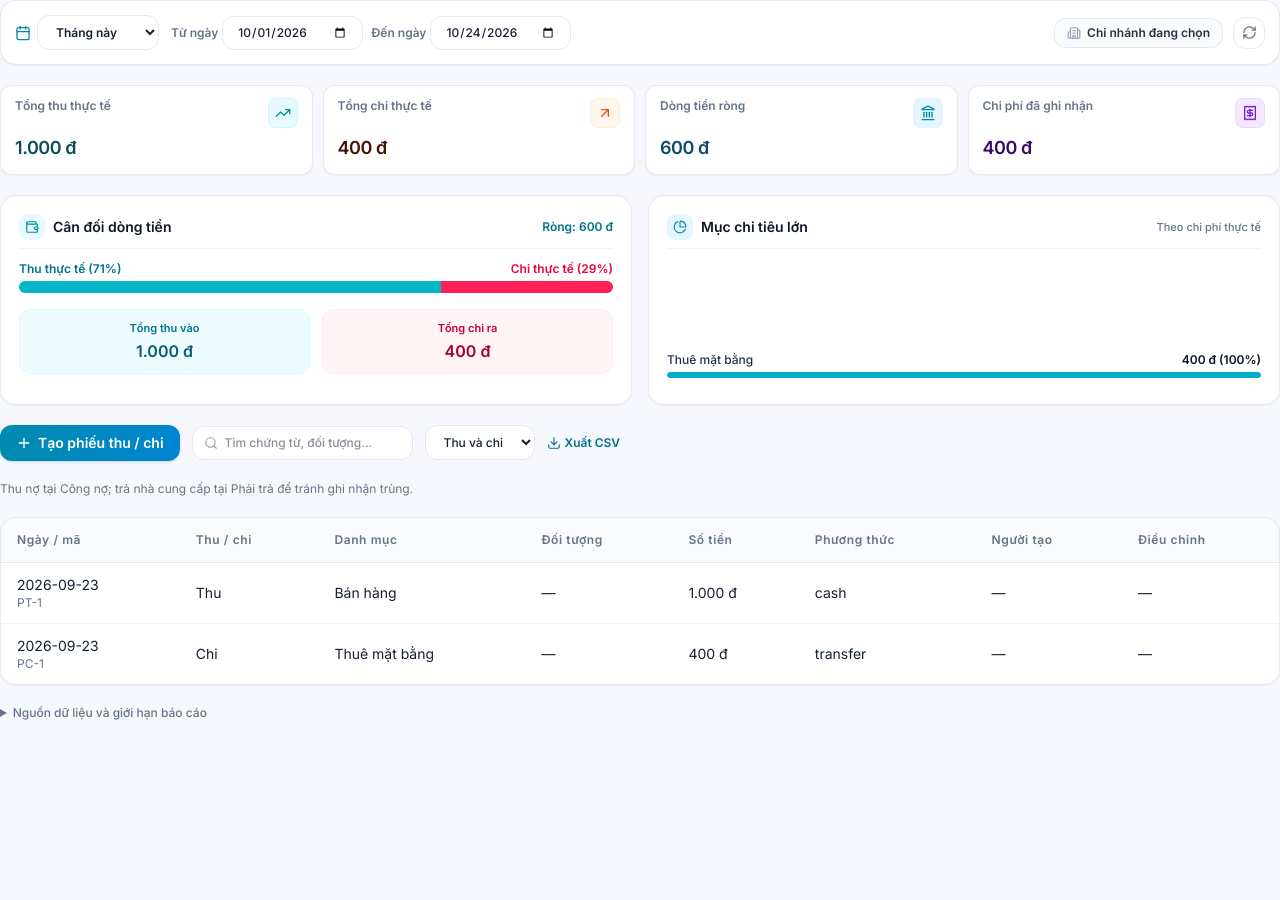
Scenario: Finance management screens › preserves the form and retry key on a failed submission
Check: the text "PT-1" is shown, box [17, 594, 42, 610]
Click the button "Tạo phiếu thu / chi" at (90, 442), box [0, 424, 180, 460]
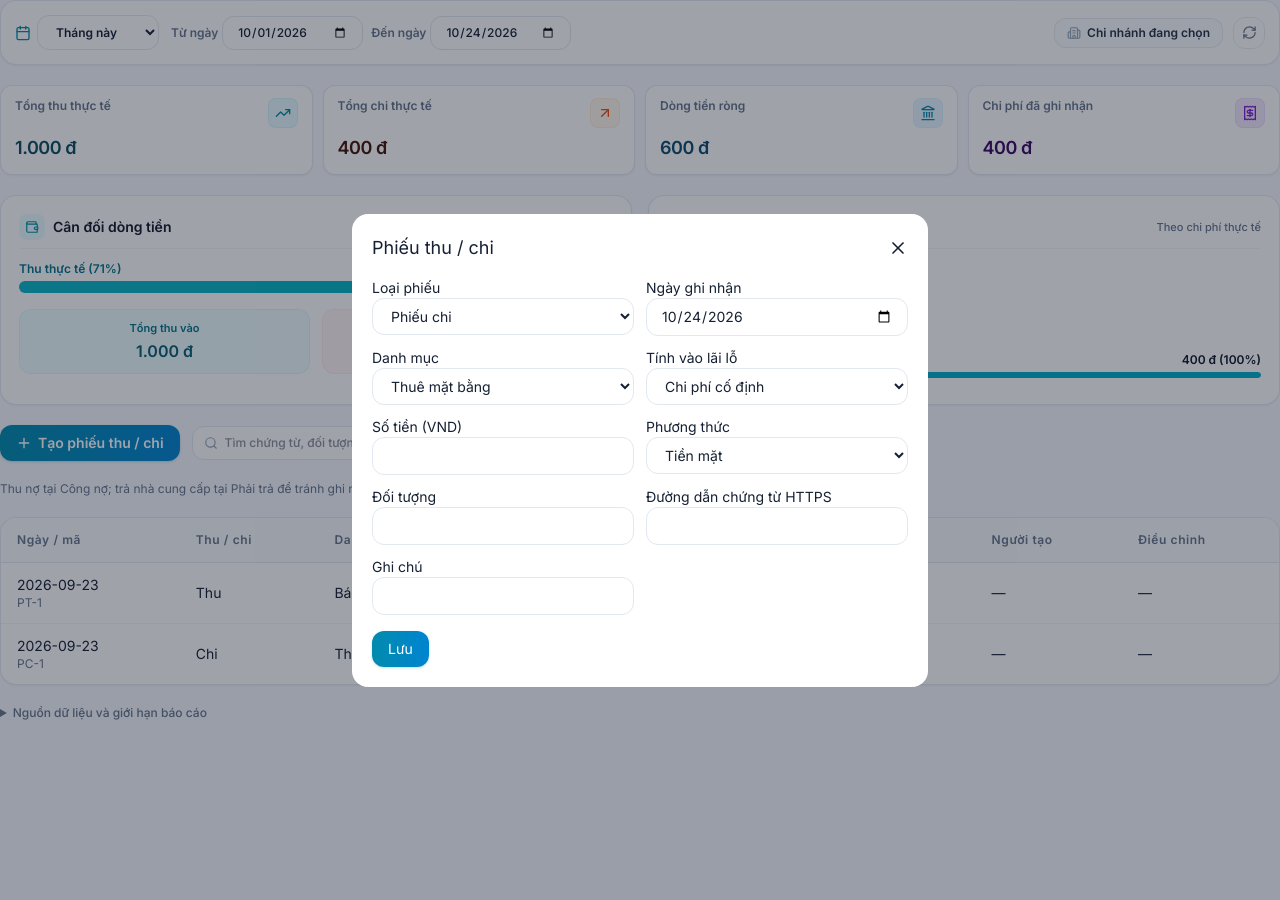
Type "300" into the number field labelled "Số tiền (VND)" at (503, 456), box [372, 436, 634, 474]
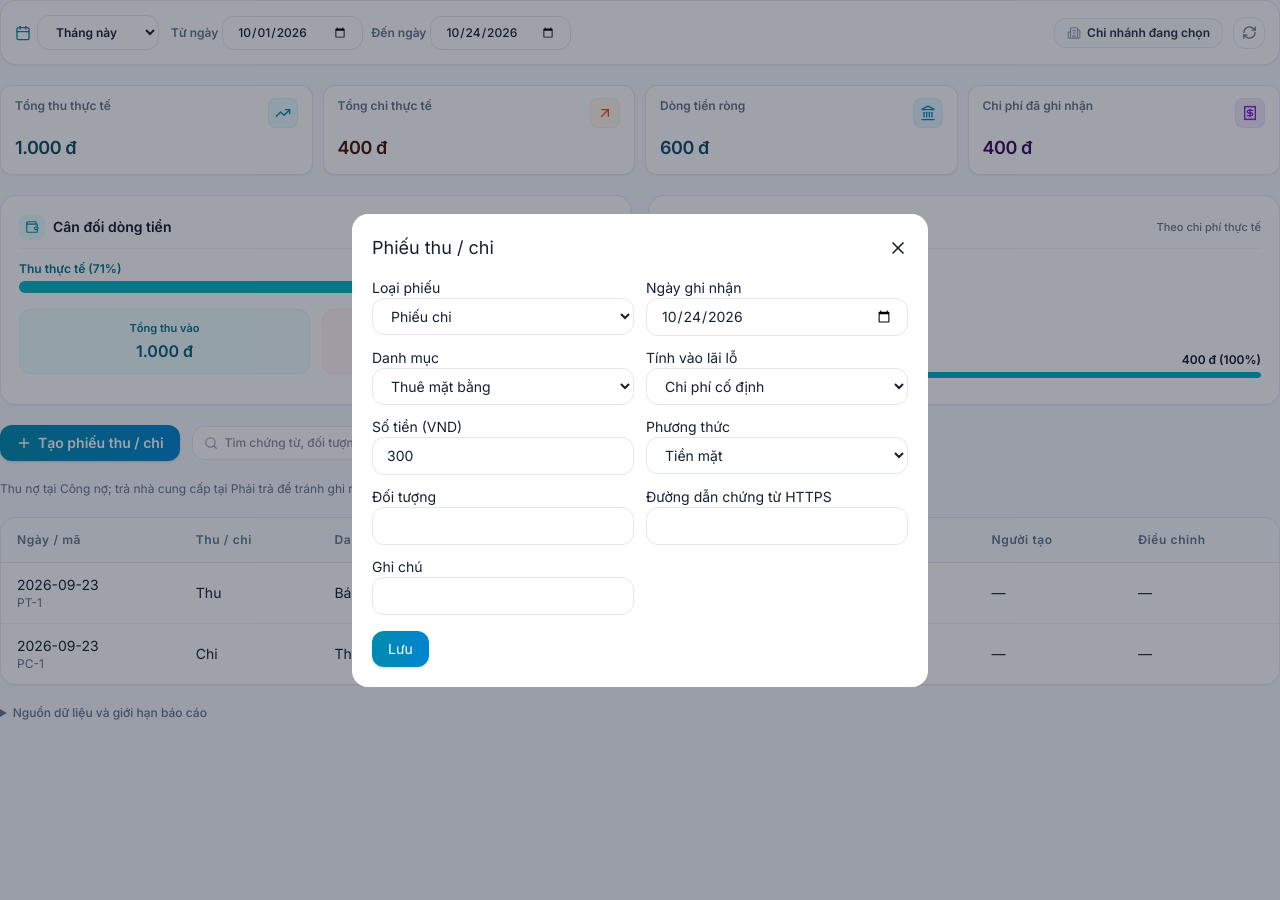
Click the button "Lưu" at (400, 648), box [372, 630, 429, 666]
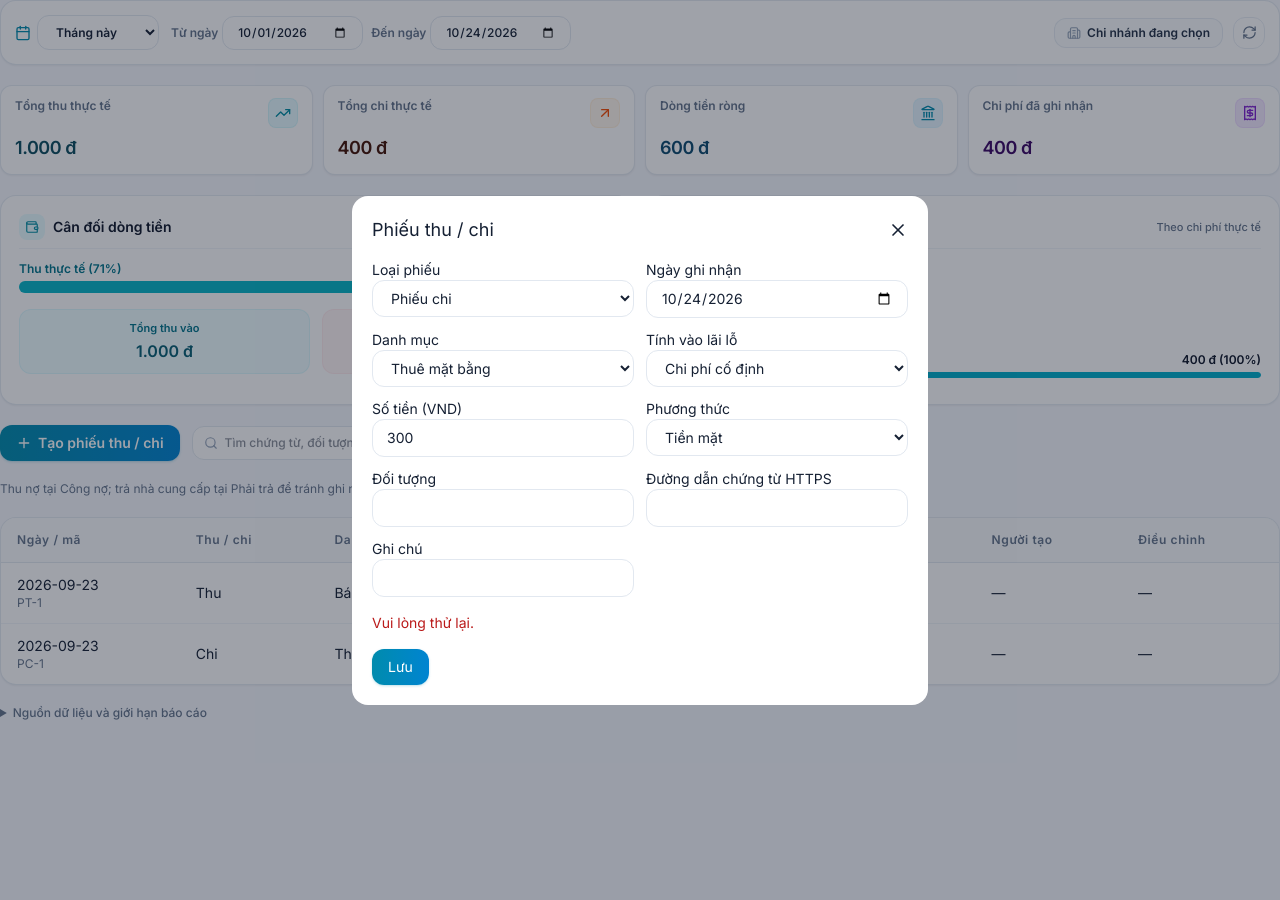
Check: the message reads "Vui lòng thử lại.", box [372, 614, 474, 630]
Click the button "Lưu" at (400, 666), box [372, 648, 429, 684]
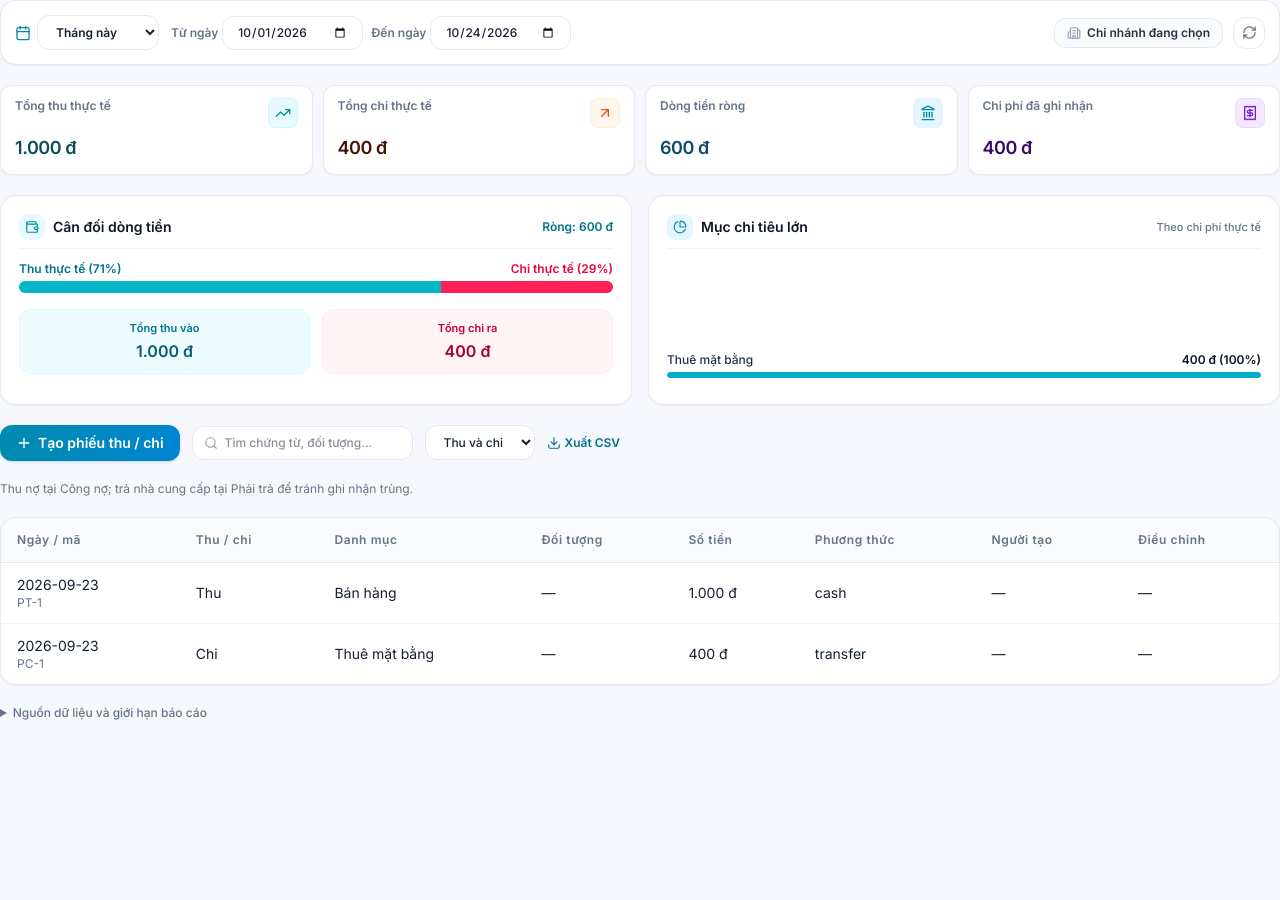
Check: the dialog is gone
